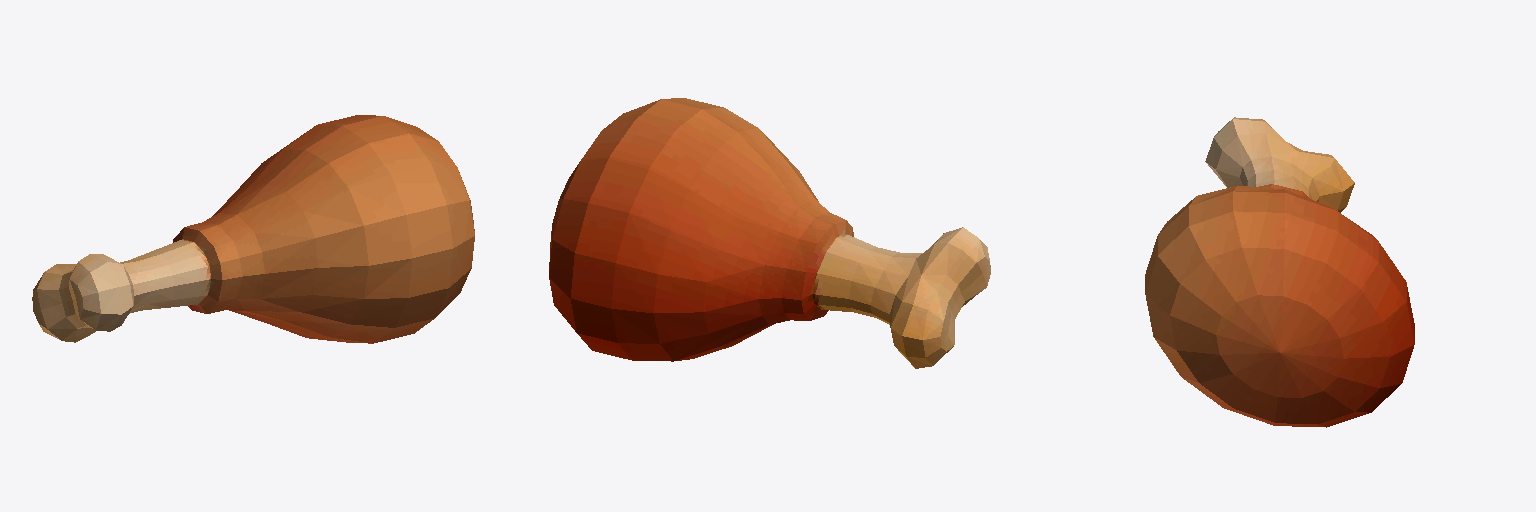
The picture shows the model from 3 angles: view 1: azimuth 30°, elevation 25°; view 2: azimuth 150°, elevation 25°; view 3: azimuth 270°, elevation 25°; orthographic projection.
Visible parts, largest first — view 1: Chicken; view 2: Chicken; view 3: Chicken.
Part boxes in pixels (x1,y1,x2,y2): Chicken: (32, 115, 474, 343); Chicken: (549, 98, 990, 368); Chicken: (1145, 117, 1414, 427).
Size of the model in its own units: 0.2509 by 0.1308 by 0.1479.
1 materials, 1 textured.